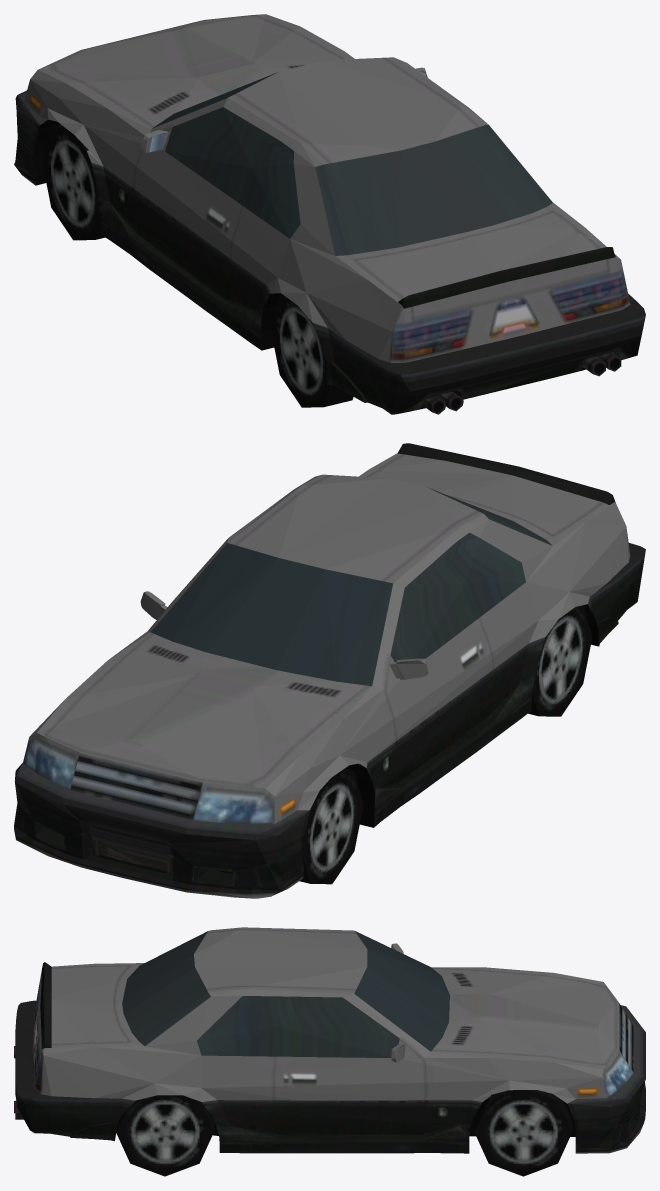
The model's file is car.fbx.
The picture shows the model from 3 angles, top to bottom: view 1: azimuth 30°, elevation 25°; view 2: azimuth 150°, elevation 25°; view 3: azimuth 270°, elevation 25°; orthographic projection. The views are drawn at different scales.
Parts seen in each view (by area): view 1: car1; view 2: car1; view 3: car1.
Boxes of the visible parts, x1,y1,x2,y2 form: car1: (14,14,645,414); car1: (14,443,645,898); car1: (14,927,645,1176).
Size of the model in its own units: 5433 by 3916 by 13236.
